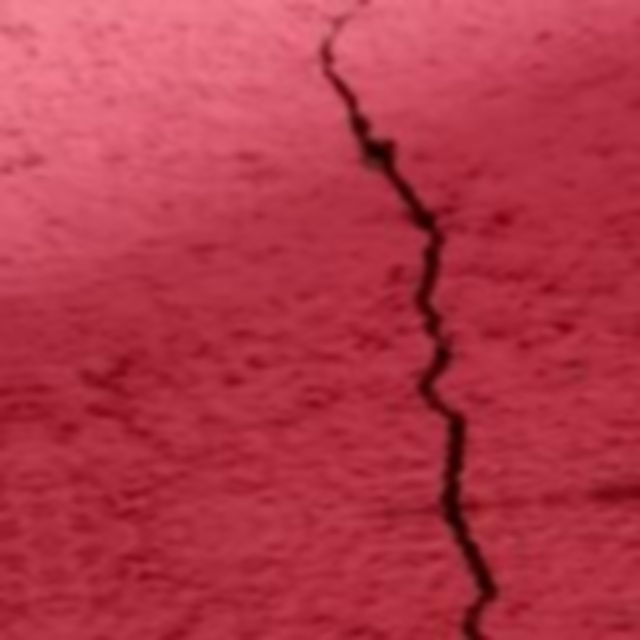SurfaceCrack: (268, 0, 516, 640)
